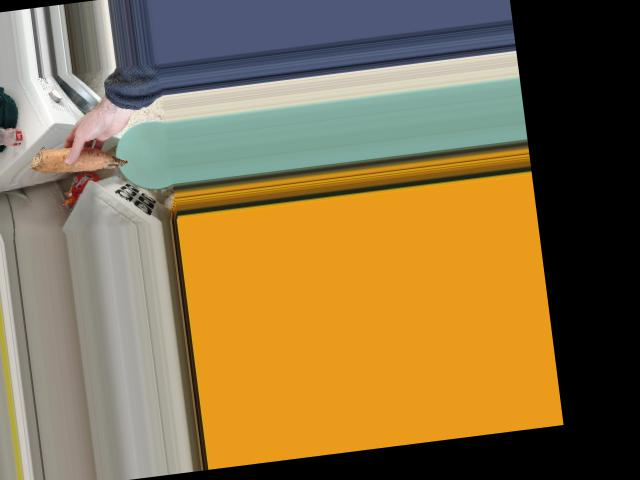sweet_potato: (25, 133, 130, 180)
